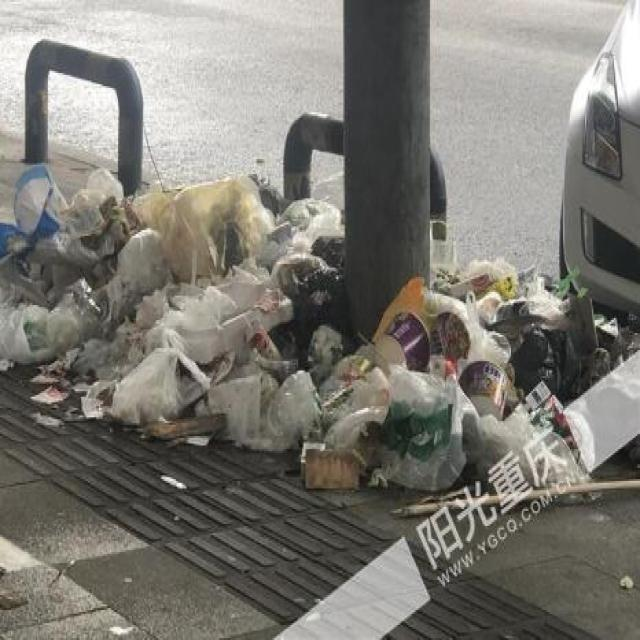garbage: (0, 159, 639, 515)
